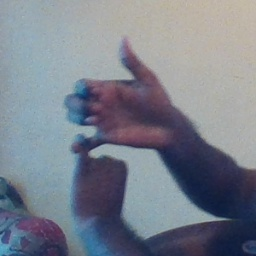S: (64, 35, 175, 204)
